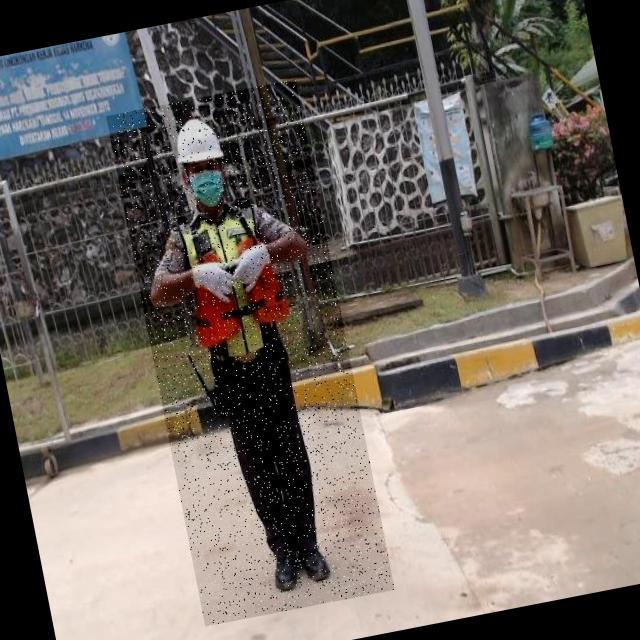Helmet: (171, 113, 226, 169)
Human: (106, 80, 395, 627)
Safety Boot: (297, 541, 334, 590), (270, 548, 305, 596)
Safety Vest: (178, 201, 296, 364)
